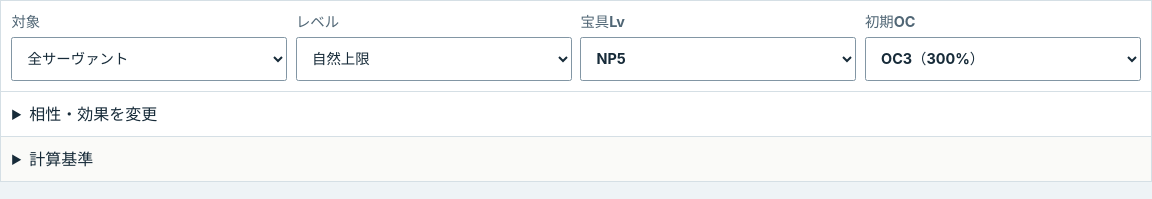
Test: publishes the OC1 correction for NP2 through controls, URL and worker
Select "NP2" in the dropdown labelled "宝具Lv" at (718, 59), box [580,37,856,81]
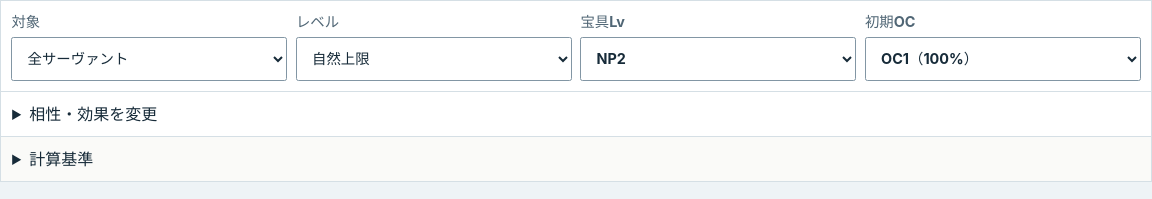
Result: the dropdown labelled "初期OC" shows "OC1（100%）" at [865,37,1141,81]
